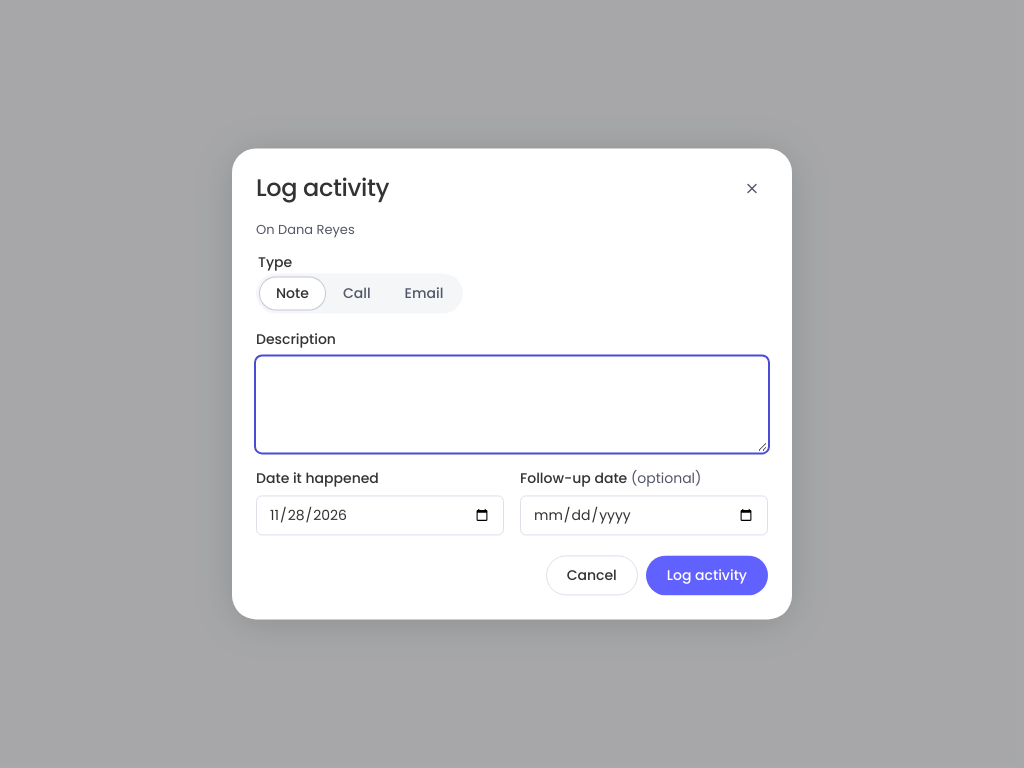
it: the activity form › shows a refusal under its field
Type "Long text" into the text box labelled "Description".
click(512, 405); type("Long text")  # box [256,357,768,453]
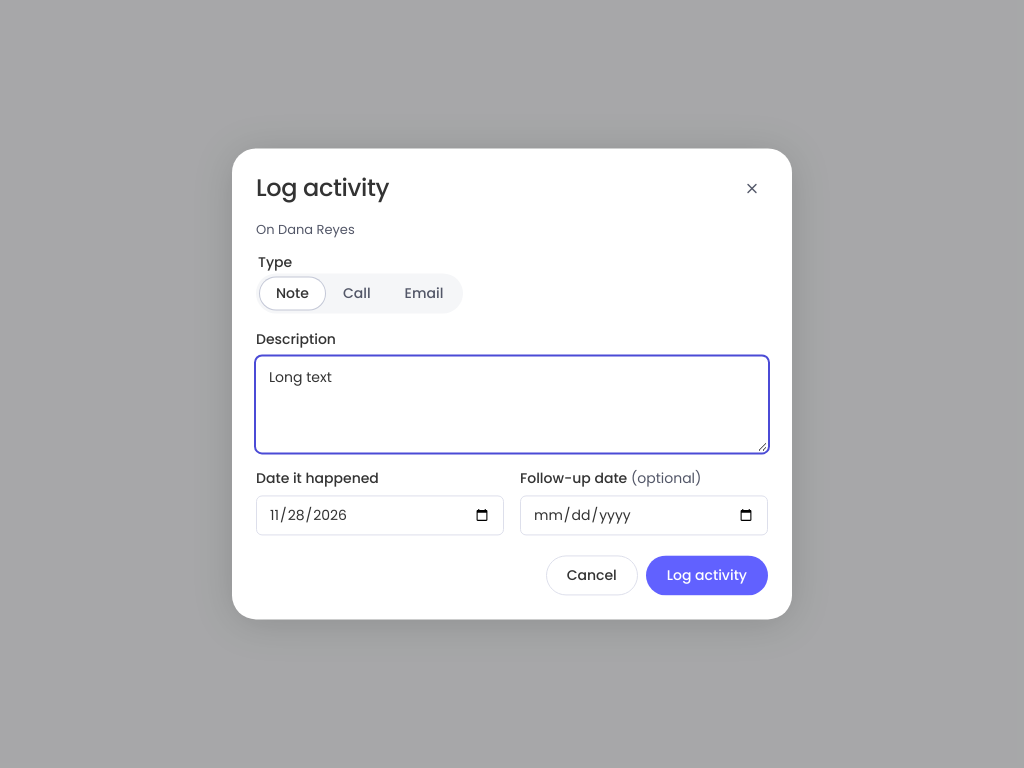
Click the button "Log activity".
click(707, 576)  # box [646,556,768,596]
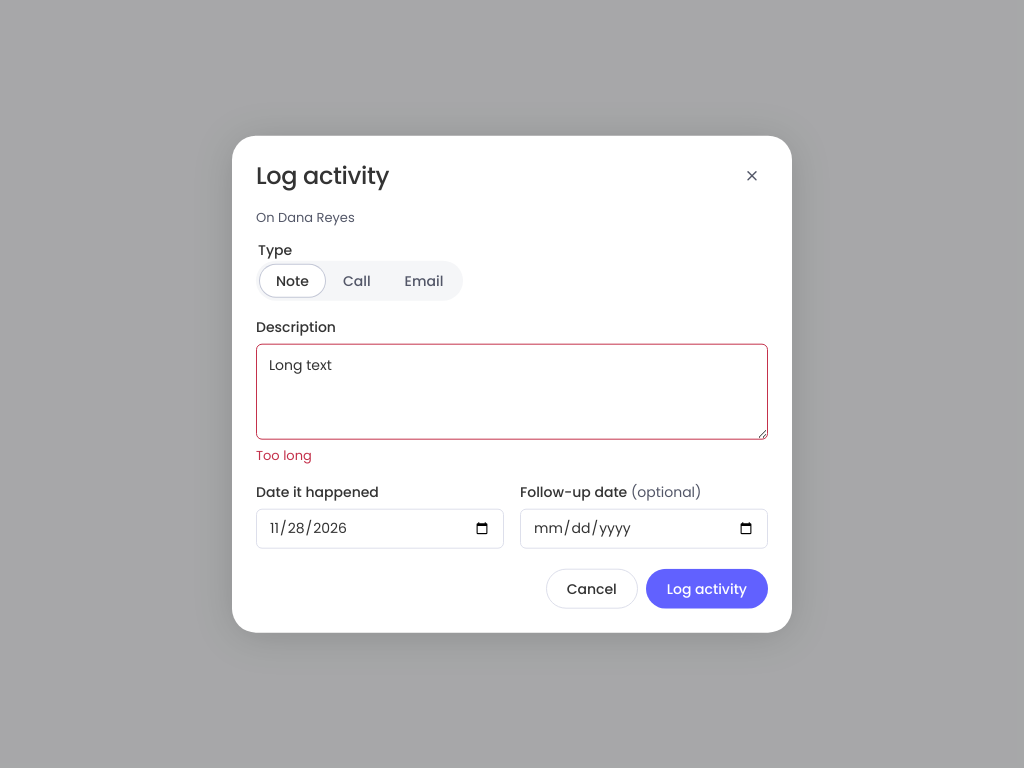
Check: the text "Too long" is shown, box [256,446,312,465]
